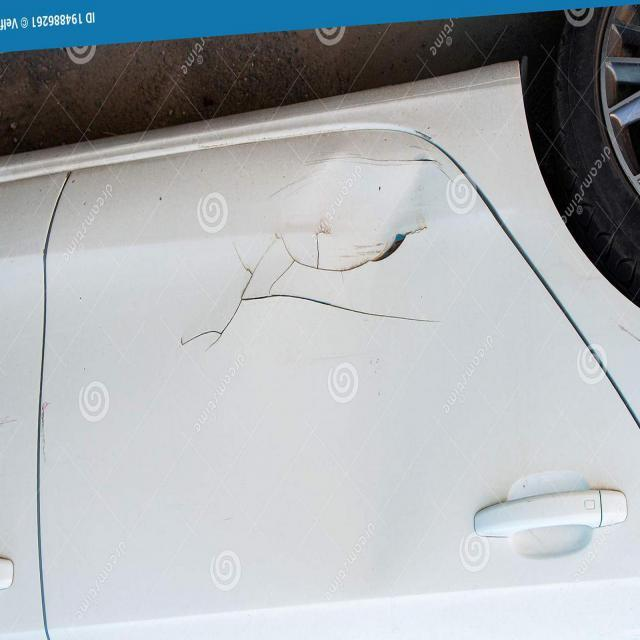dent: (166, 103, 454, 371)
